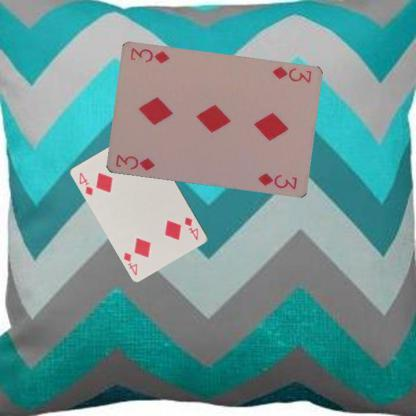3d: (269, 64, 313, 84), (113, 152, 156, 172)
4d: (182, 214, 200, 242), (77, 170, 95, 197)
